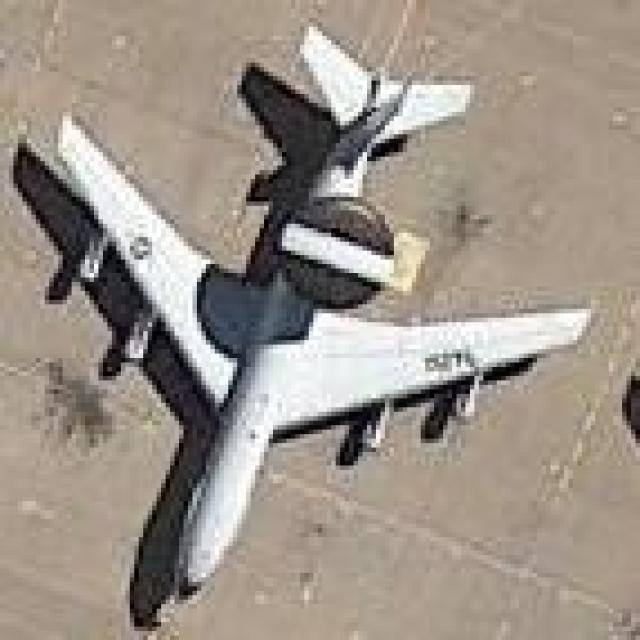E-3_TopDown: (4, 18, 596, 631)
